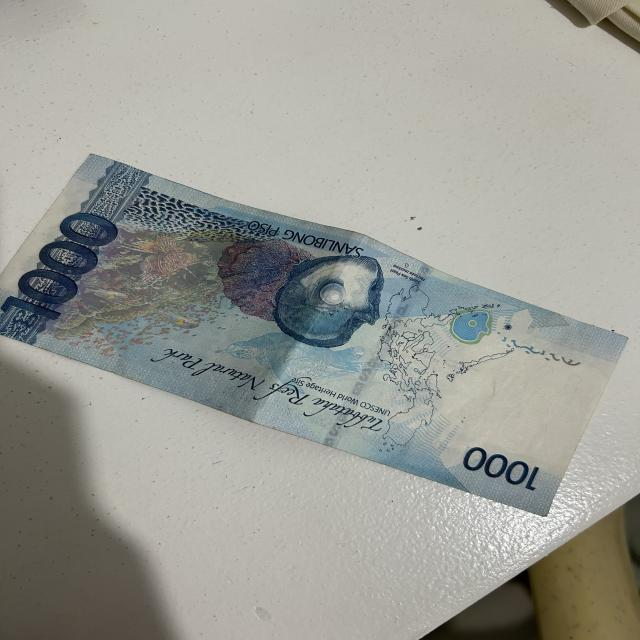1000_pearl: (276, 252, 378, 342)
1000_pearl_watermark: (446, 309, 496, 345)
watermark: (438, 339, 576, 466)
